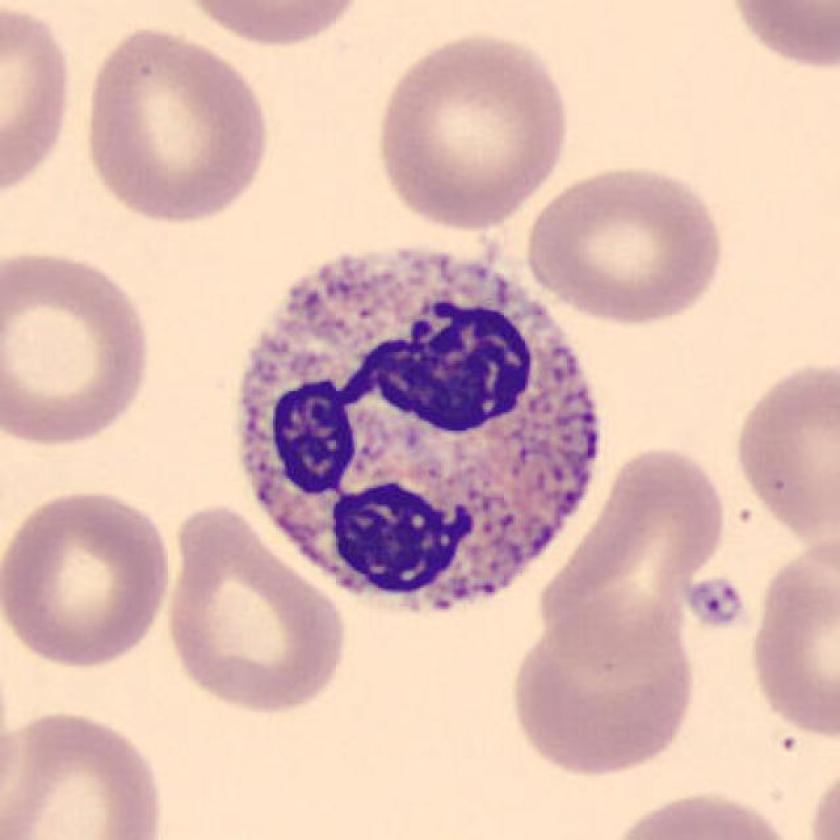neutrophil: (237, 252, 598, 613)
